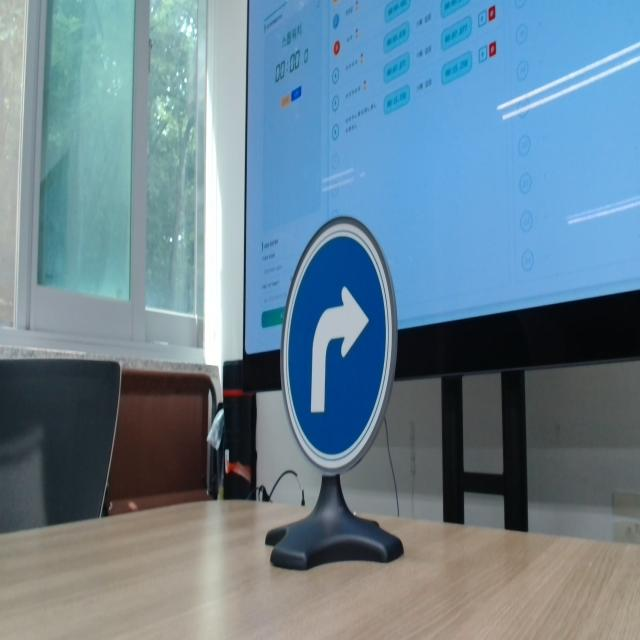right_dierection: (268, 193, 415, 484)
